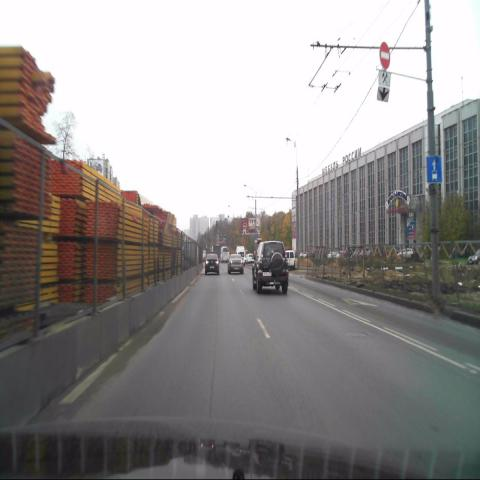5_14: (426, 156, 442, 183)
